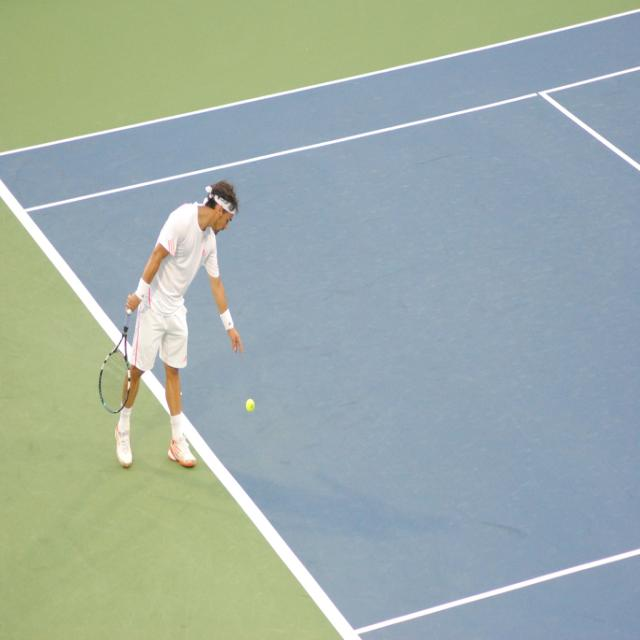ball: (244, 395, 256, 416)
